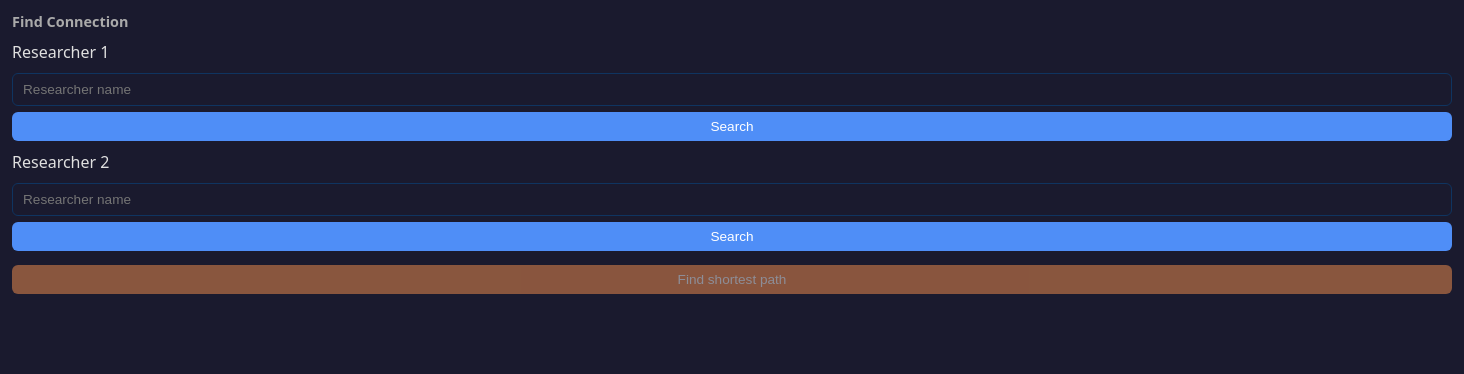
PathFinder › shows error when no path is found
Type "Alice" into the 1st field with placeholder "Researcher name". click: (732, 90)
box: [12, 73, 1452, 106]
Click the 1st button "Search". click: (732, 126)
box: [12, 112, 1452, 141]
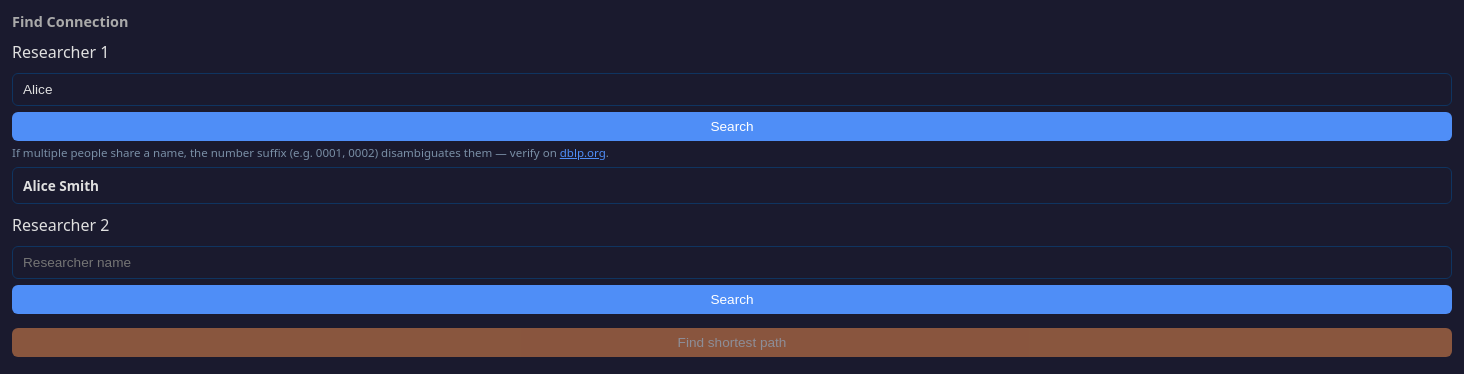
Click the text "Alice Smith". click: (61, 186)
box: [23, 176, 99, 195]
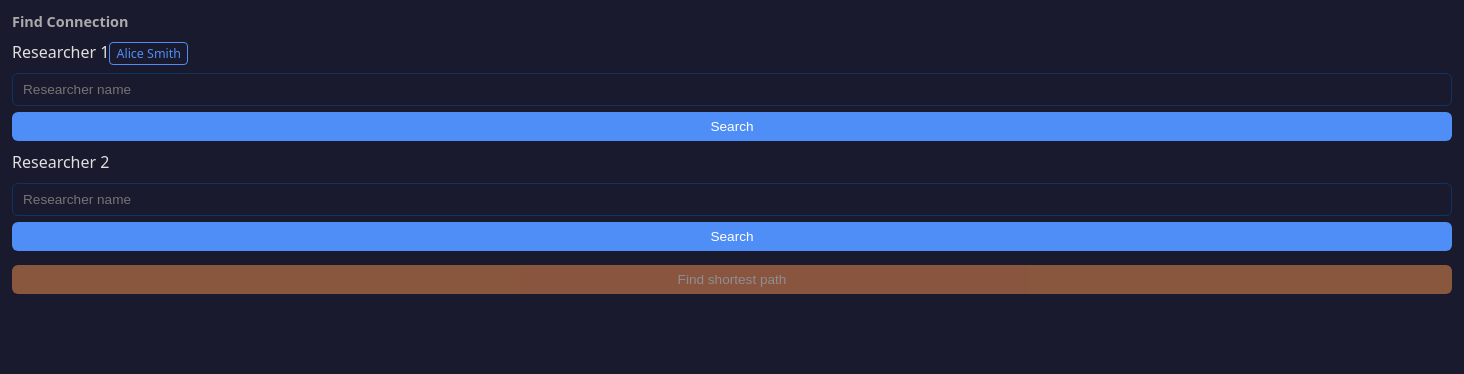
Type "Bob" into the 2nd field with placeholder "Researcher name". click: (732, 200)
box: [12, 183, 1452, 216]
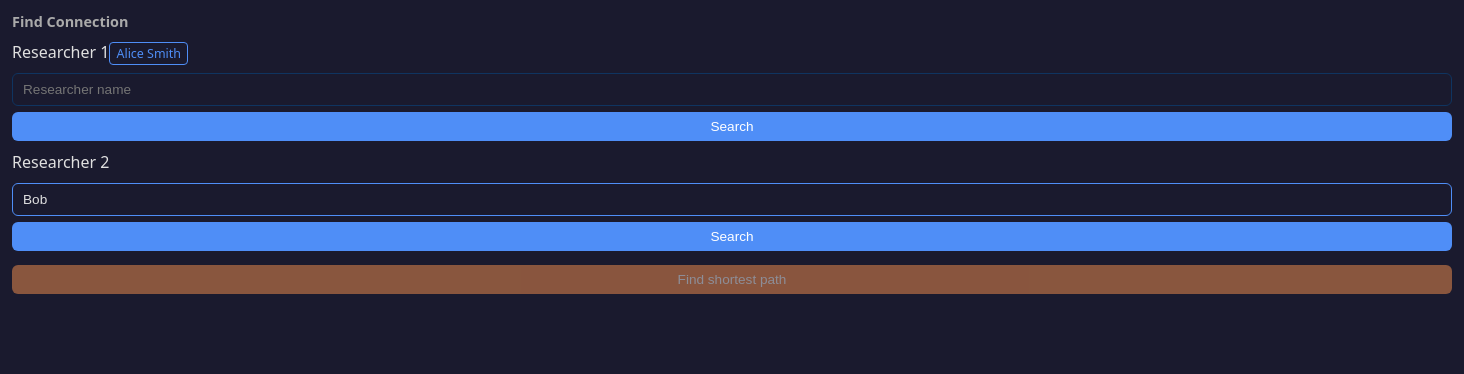
Click the 2nd button "Search". click: (732, 236)
box: [12, 222, 1452, 251]
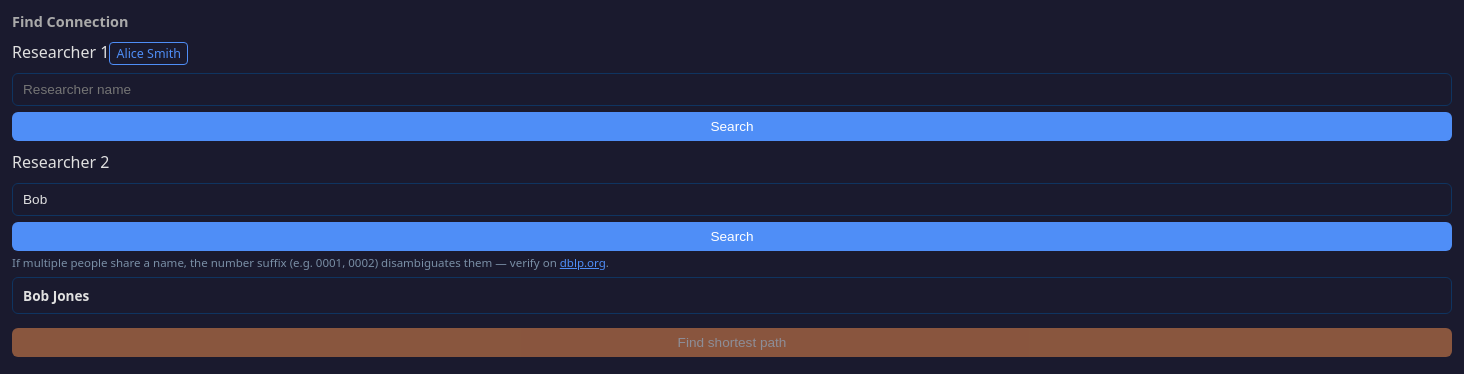
Click the text "Bob Jones". click: (56, 296)
box: [23, 286, 89, 305]
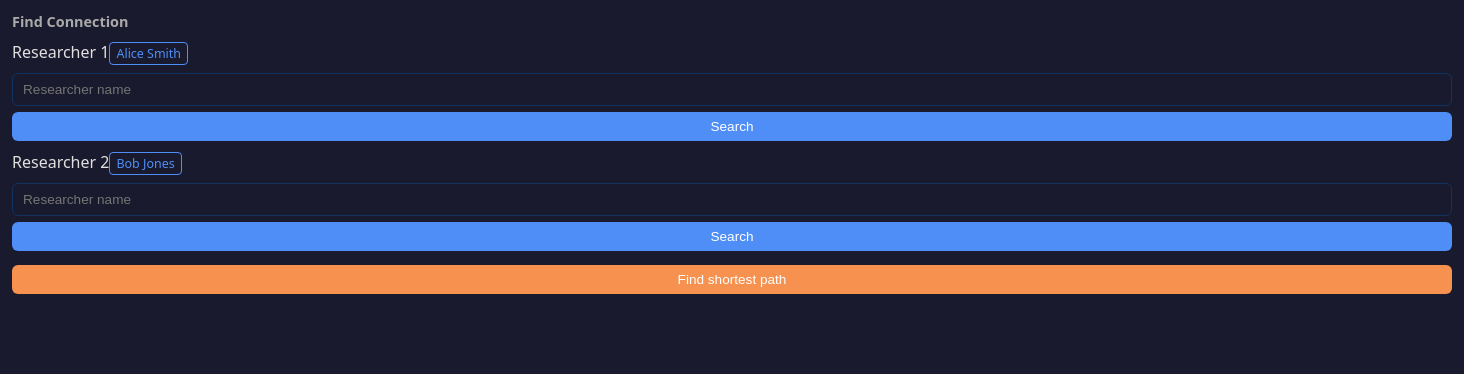
Click the button "Find shortest path". click: (732, 280)
box: [12, 265, 1452, 294]
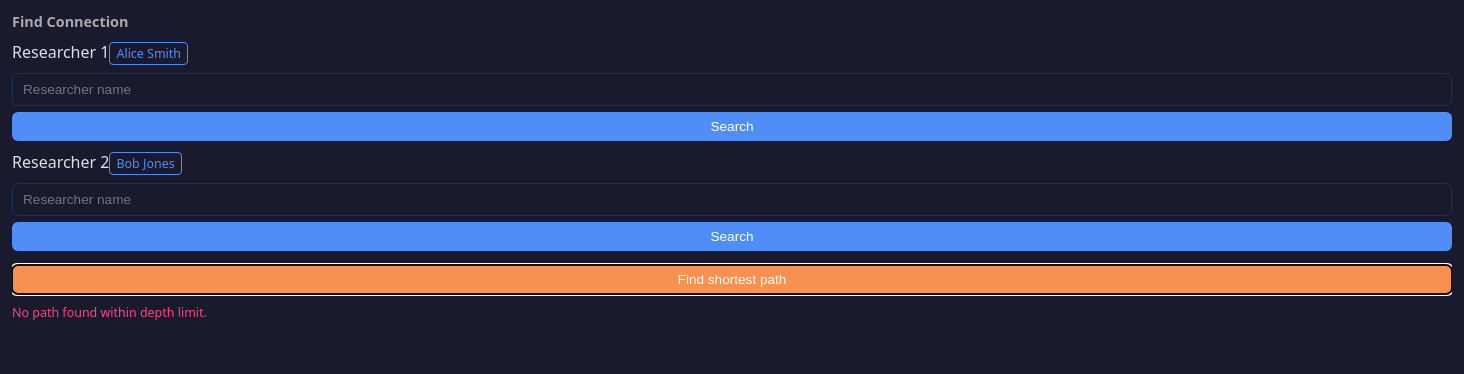
Result: the text "No path found within depth limit." is shown at [12, 304, 207, 321]
